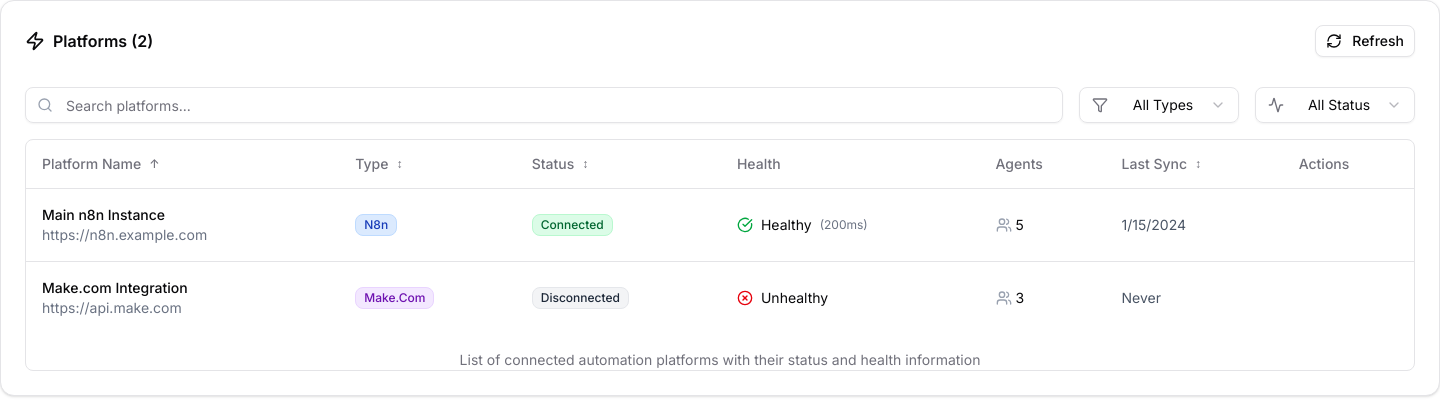
Test case: PlatformList › displays filtered empty state when no platforms match filters
Expected: the text "Main n8n Instance" is shown, [42,206,165,222]
Type "nonexistent" into the field with placeholder "Search platforms..." at (544, 105), box [25,87,1063,123]
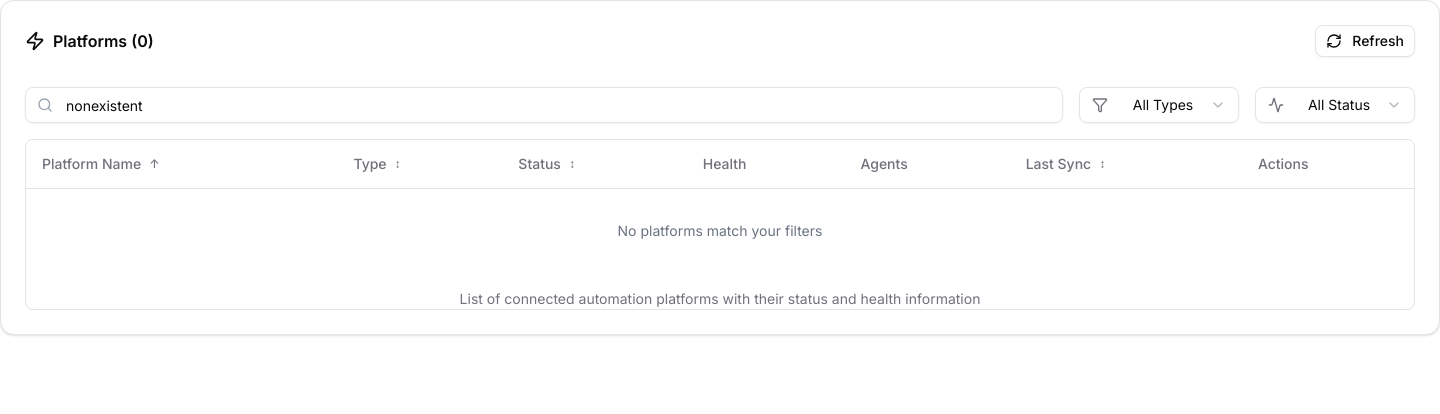
Expected: the text "No platforms match your filters" is shown, [26,188,1414,272]
